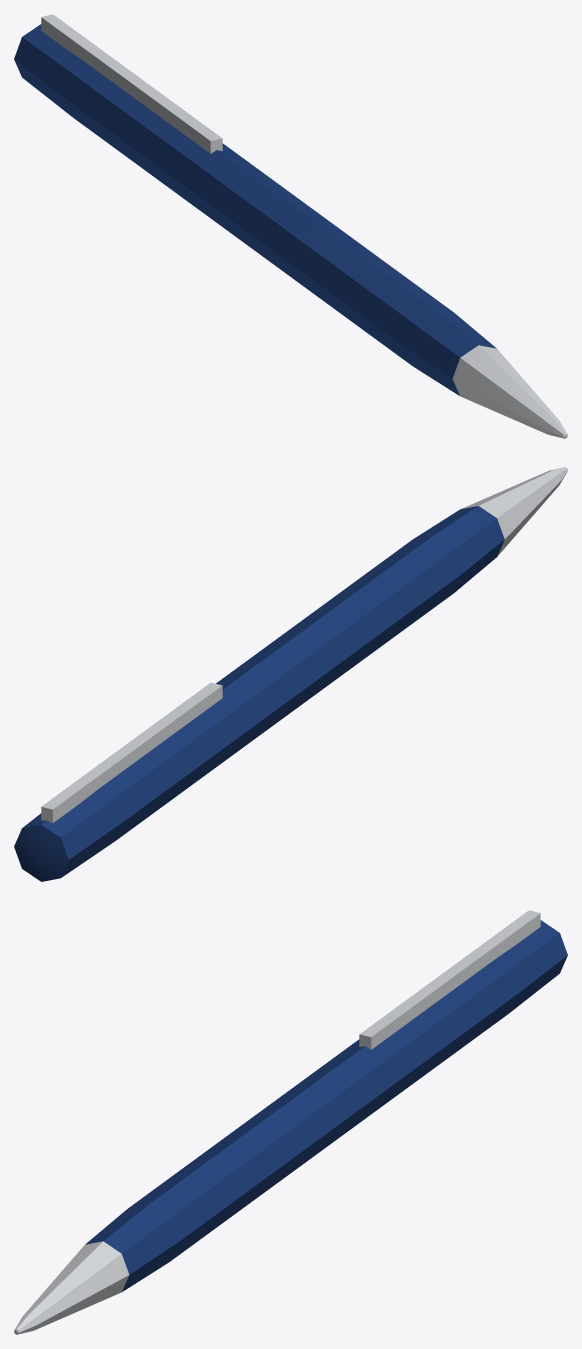
The model's file is pen.glb.
3 renders of one model, top to bottom at view 1: azimuth 30°, elevation 25°; view 2: azimuth 150°, elevation 25°; view 3: azimuth 330°, elevation 25°, orthographic.
Visible parts, largest first — view 1: pen; view 2: pen; view 3: pen.
Boxes of the visible parts, x1,y1,x2,y2 form: pen: (14, 14, 567, 438); pen: (14, 467, 567, 881); pen: (14, 910, 567, 1334).
Bounding box in the file's own units: 0.009 × 0.0105 × 0.1402.
